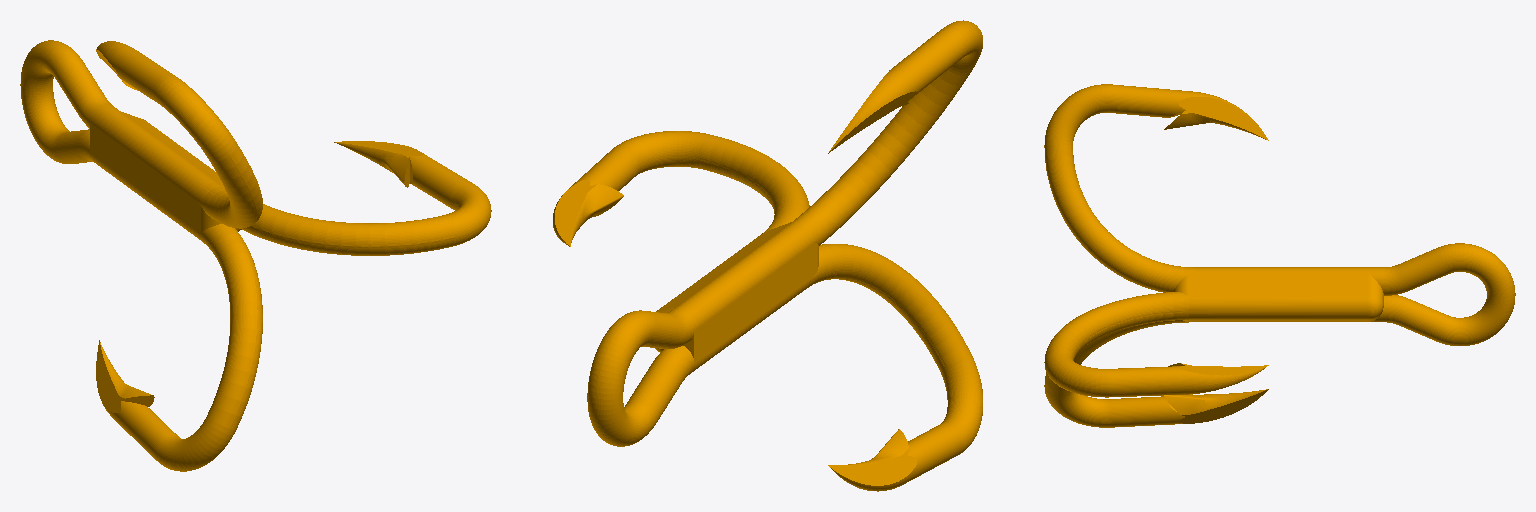
URDF robot description (hook):
<?xml version="1.0"?>
<robot name="hook">

  <link name="hook">
    <visual>
      <geometry>
        <mesh filename="package://triple_hook/triple_hook.dae"/>
      </geometry>
    </visual>
    <collision>
      <geometry>
        <mesh filename="package://triple_hook/triple_hook.stl"/>
      </geometry>
    </collision>
  </link>

  <!-- <joint name="joint1" type="continuous">
    <origin rpy="0 0 0" xyz="0 0 0"/>
    <parent link="base_link"/>
    <child link="copy"/>
  </joint>

  <link name="copy">
    <visual>
      <geometry>
        <mesh filename="package://triple_hook/triple_hook.dae"/>
      </geometry>
    </visual>
    <collision>
      <geometry>
        <mesh filename="package://triple_hook/triple_hook.stl"/>
      </geometry>
    </collision>
  </link> -->

</robot>

--- Render facts (derived) ---
The picture shows the robot from 3 angles, left to right: view 1: azimuth 30°, elevation 25°; view 2: azimuth 150°, elevation 25°; view 3: azimuth 270°, elevation 25°; orthographic projection.
Model hook with 1 links and 0 joints (none), rooted at hook, posed all joints at 0.
Links seen in each view (by area): view 1: hook; view 2: hook; view 3: hook.
Boxes of the visible links, x1,y1,x2,y2 form: hook: [20, 40, 491, 471]; hook: [553, 20, 982, 491]; hook: [1044, 84, 1515, 427].
Size in the robot's own frame: 17.25 by 24.65 by 19.69 metres.
1 mesh visuals loaded from 1 distinct referenced files (1 Collada DAE).